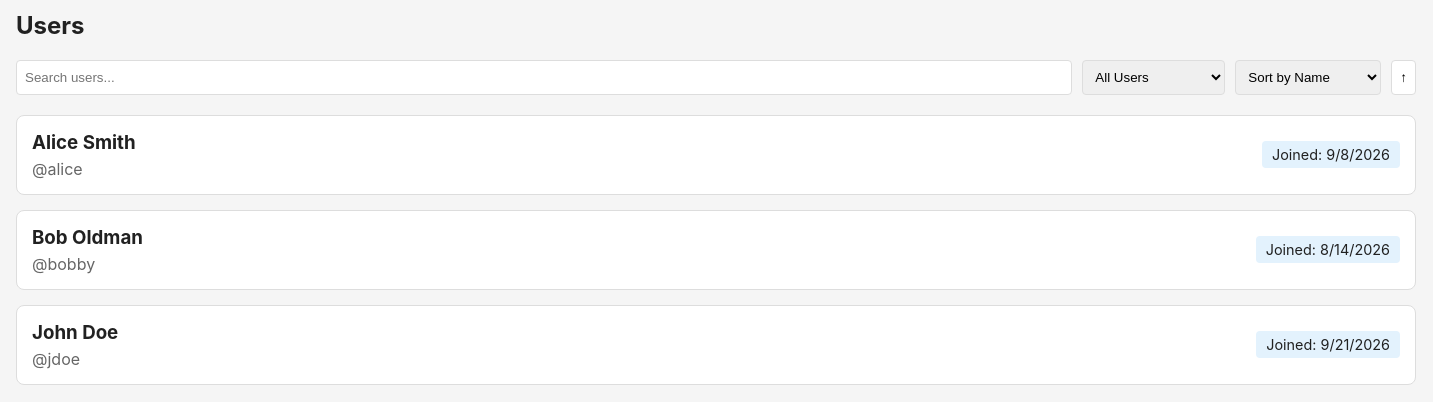
UserList Component › filters users by search term
The image size is (1433, 402).
Expected: the heading "John Doe" is shown, [32,321,118,344]
Step 1. Type "Alice" into the field with placeholder "Search users..." → (544, 77), box [16,60,1072,95]
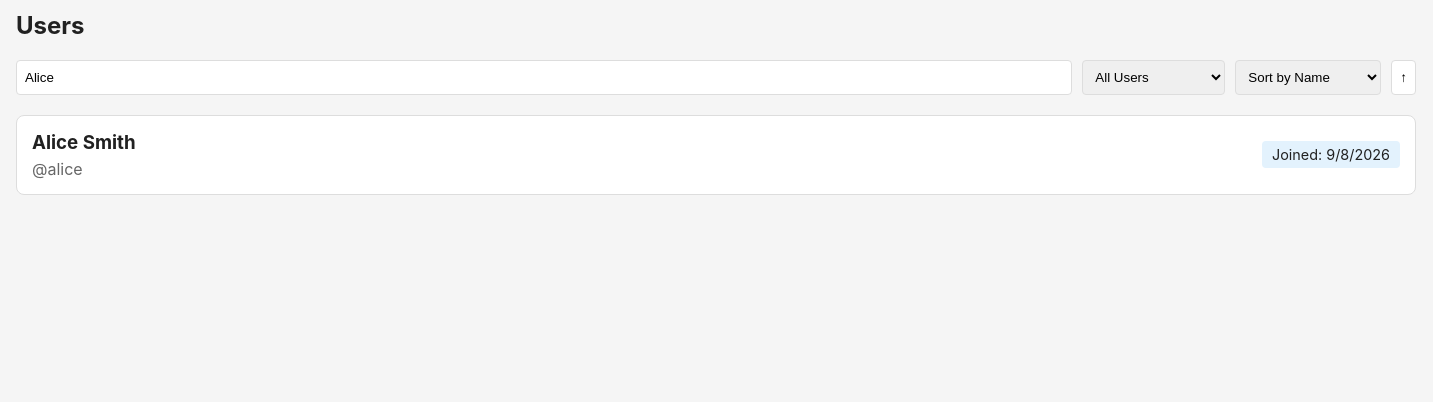
Expected: the heading "Alice Smith" is shown, [32,131,136,154]
Expected: the heading "John Doe" is gone
